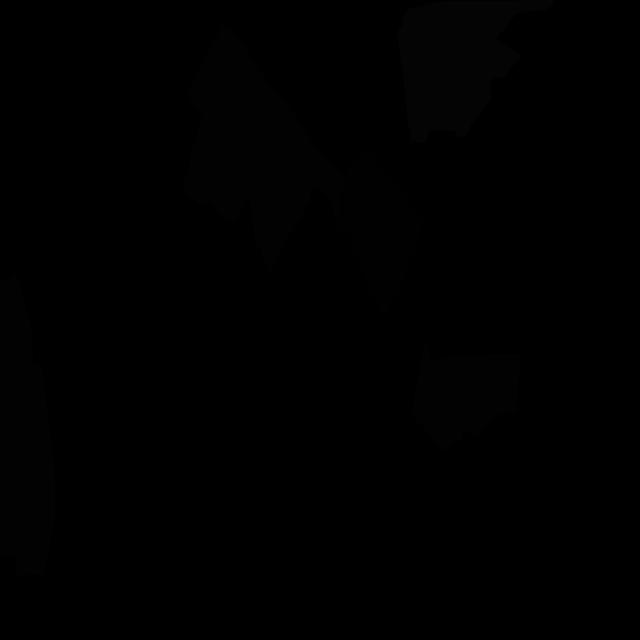cardboard: (183, 23, 344, 274), (0, 272, 55, 576), (411, 336, 522, 451)
rigid_plastic: (339, 147, 423, 316)
soft_plastic: (398, 0, 554, 143)
